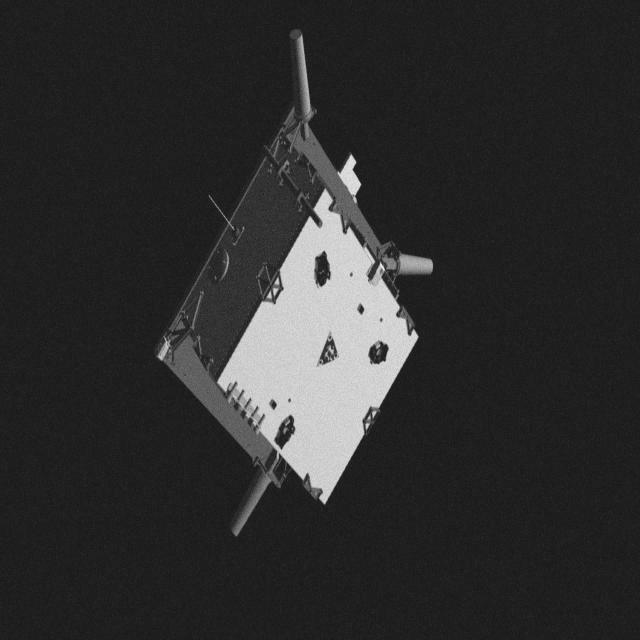medium_debris: (146, 28, 436, 538)
